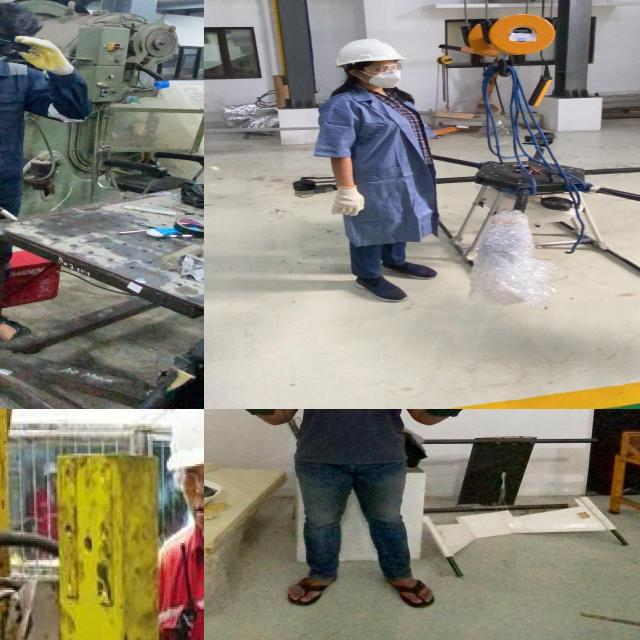face_mask: (358, 60, 407, 86), (0, 31, 24, 69)
face_nomask: (176, 462, 204, 523)
glasses: (0, 24, 33, 58), (170, 465, 204, 494), (357, 60, 404, 74)
hand_glove: (7, 33, 69, 71), (325, 182, 369, 217)
head_helmet: (157, 409, 204, 473), (333, 38, 409, 68)
person: (305, 39, 460, 308), (267, 409, 454, 616), (0, 0, 77, 344), (146, 409, 204, 640)
shoes: (350, 271, 410, 304), (376, 257, 440, 281)
